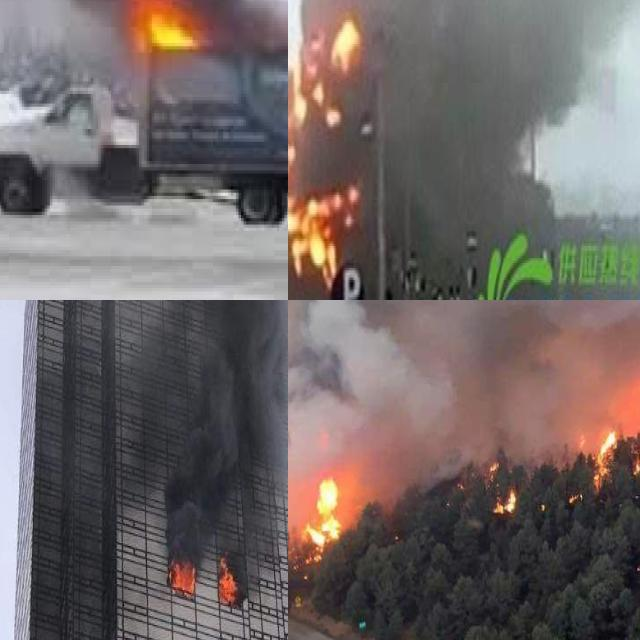fire: (288, 12, 375, 284), (116, 0, 225, 65), (582, 373, 640, 479), (298, 472, 344, 548), (484, 456, 516, 514), (167, 548, 198, 598), (217, 552, 243, 609)
smoke: (298, 0, 640, 300), (288, 300, 640, 525), (119, 300, 288, 543), (197, 0, 288, 43)
